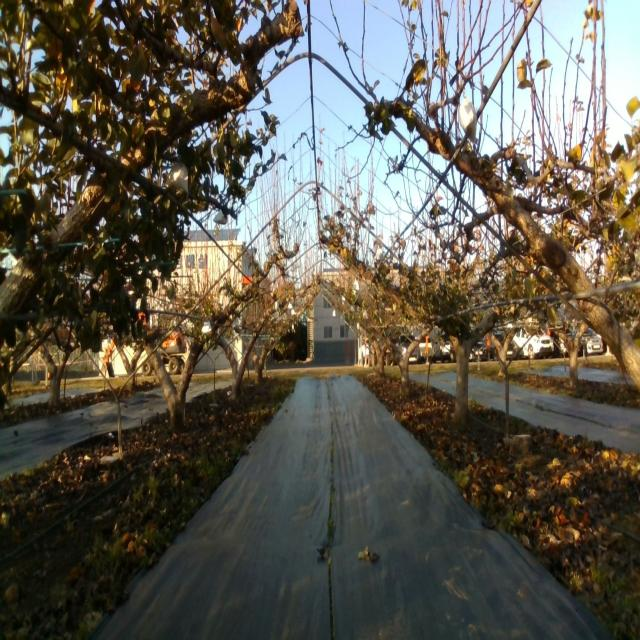pearbags: (164, 155, 188, 194), (458, 98, 477, 144)
